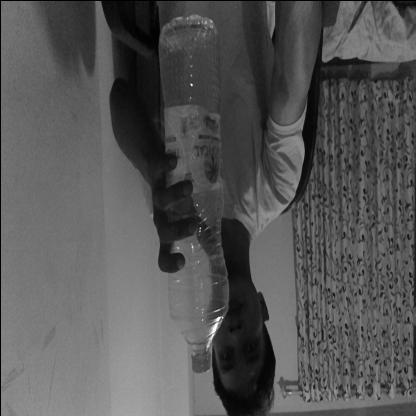plastic_bottles: (156, 14, 228, 377)
